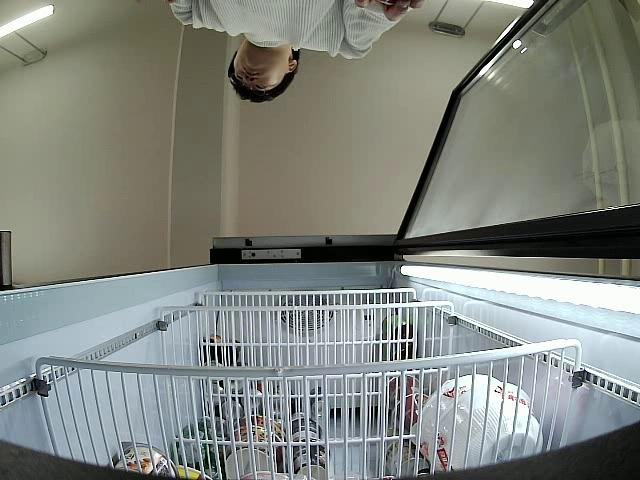00_hand: (354, 0, 424, 22)
